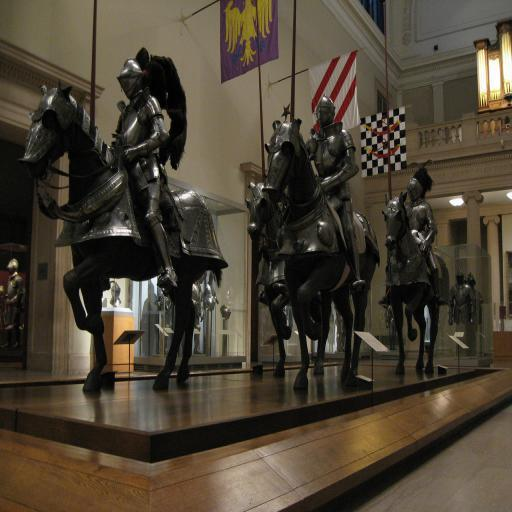horse: (17, 76, 223, 397), (262, 120, 380, 390), (246, 176, 334, 378), (382, 186, 442, 374)
